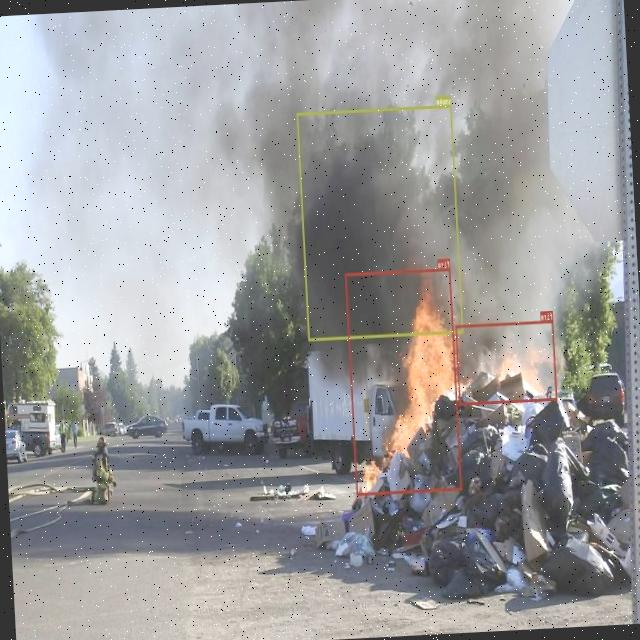fire: (346, 268, 462, 495), (456, 320, 558, 405)
smoke: (296, 104, 464, 340)
